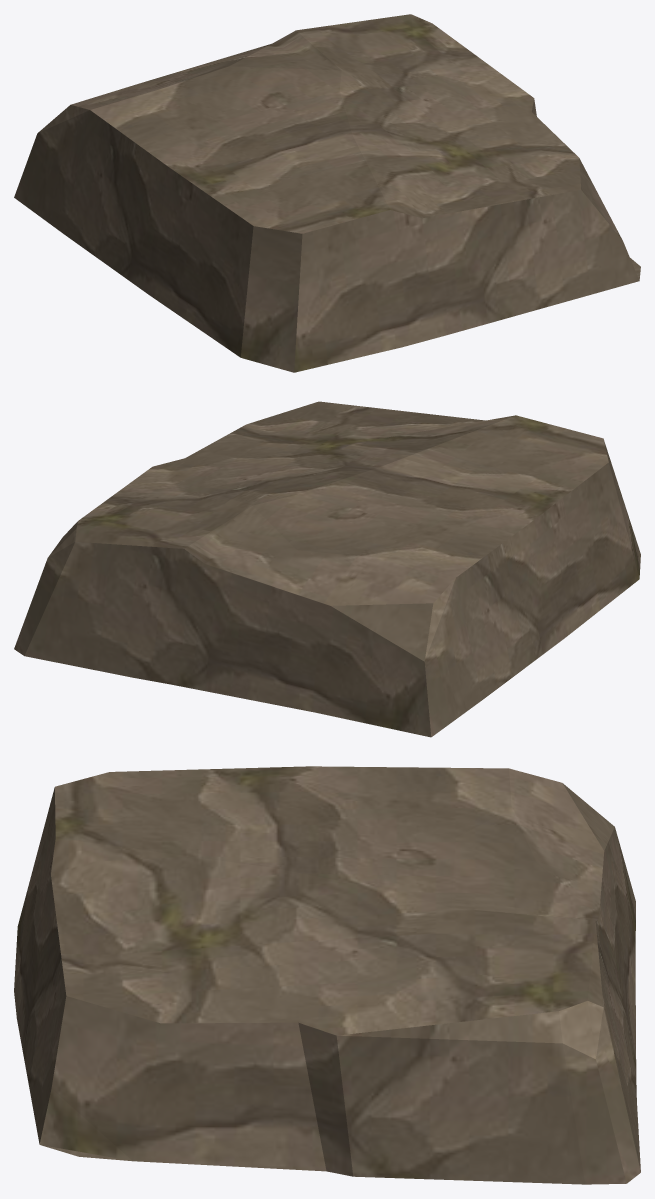
Rendered from gpebble_square_1.glb.
The picture shows the model from 3 angles, top to bottom: view 1: azimuth 30°, elevation 25°; view 2: azimuth 150°, elevation 25°; view 3: azimuth 270°, elevation 25°; orthographic projection. The views are drawn at different scales.
Parts seen in each view (by area): view 1: model; view 2: model; view 3: model.
Part boxes in pixels (box(x1,y1,x2,y2)): model: box(14, 14, 640, 372); model: box(14, 401, 640, 737); model: box(14, 766, 640, 1184).
Bounding box in the file's own units: 0.4452 × 0.1382 × 0.4505.
1 material, 1 textured.
